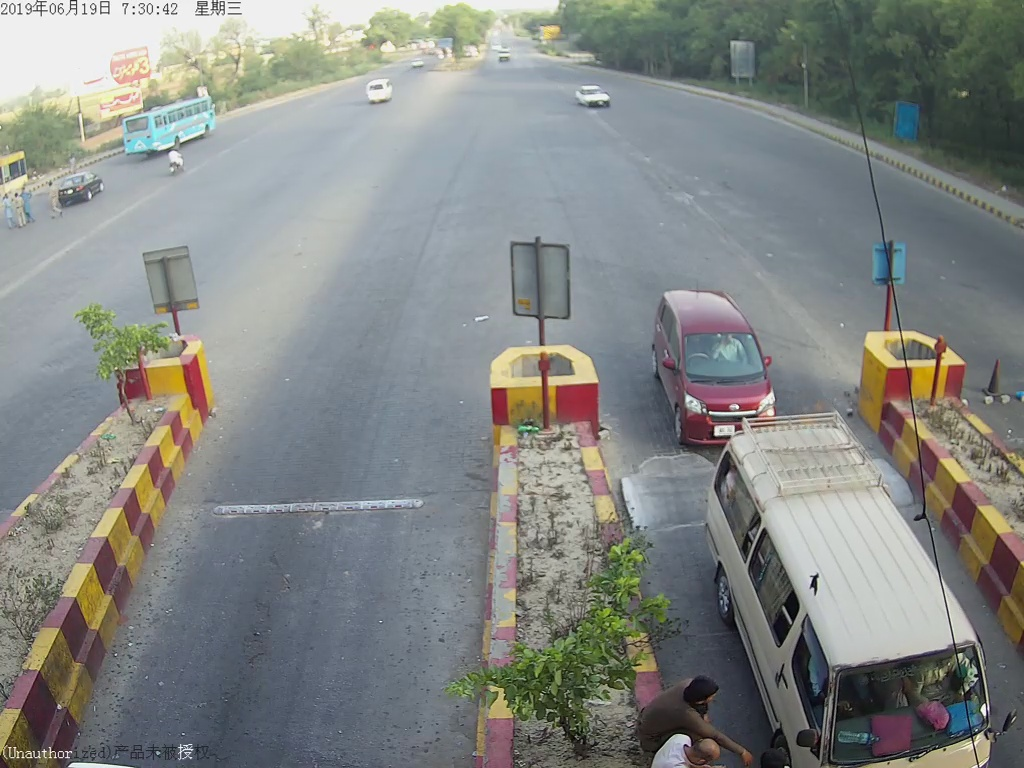Cat-1: (650, 298, 783, 422)
Cat-2: (771, 474, 990, 766)
